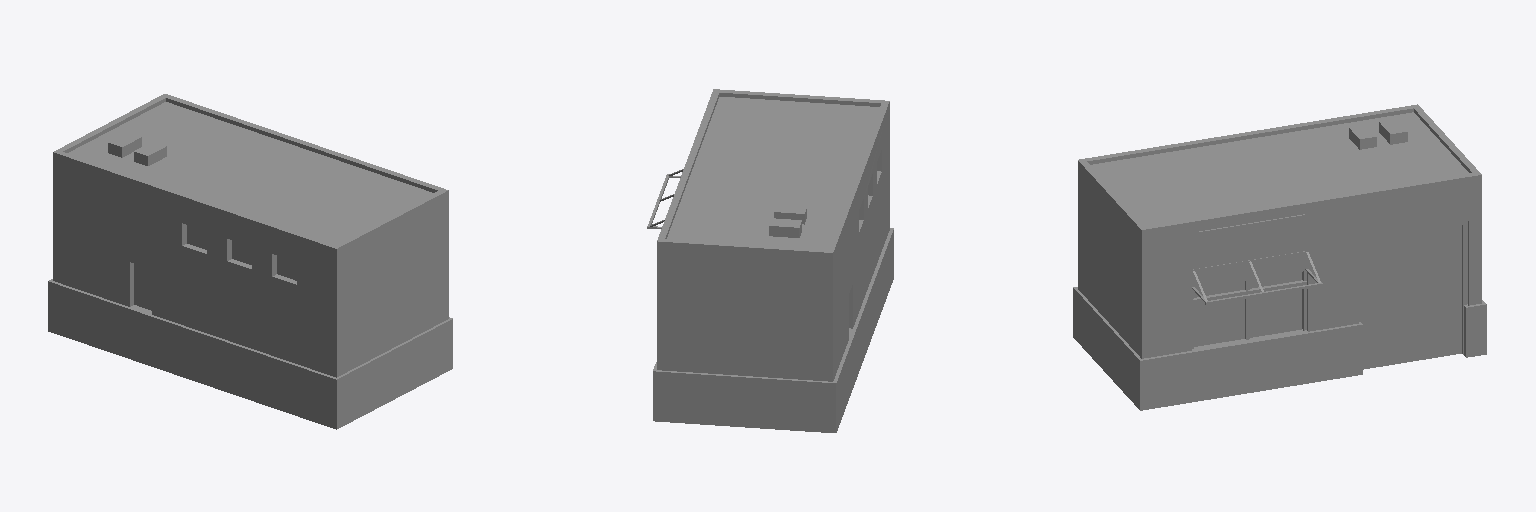
The model's file is BuildingOBJ2.obj.
3 renders of one model, left to right at view 1: azimuth 30°, elevation 25°; view 2: azimuth 150°, elevation 25°; view 3: azimuth 270°, elevation 25°, orthographic.
Parts seen in each view (by area): view 1: cabin_004.000_Untitled.001; view 2: cabin_004.000_Untitled.001; view 3: cabin_004.000_Untitled.001.
Boxes of the visible parts, <box> form: cabin_004.000_Untitled.001: <box>48,94,452,429</box>; cabin_004.000_Untitled.001: <box>647,89,893,432</box>; cabin_004.000_Untitled.001: <box>1073,104,1486,410</box>.
Bounding box in the file's own units: 4.98 × 3.19 × 6.44.